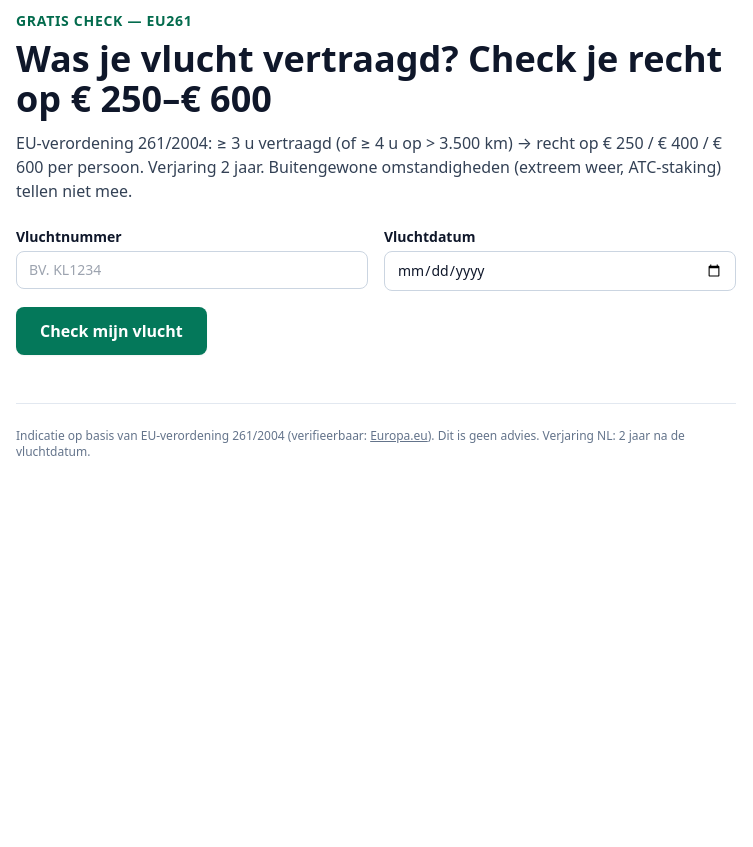
Test: VluchtclaimClient › toont 'binnenkort'-staat bij no-data van de server
In the field with test id "vluchtclaim-flightnumber": (192, 270) [16,251,368,289], type "KL1234"
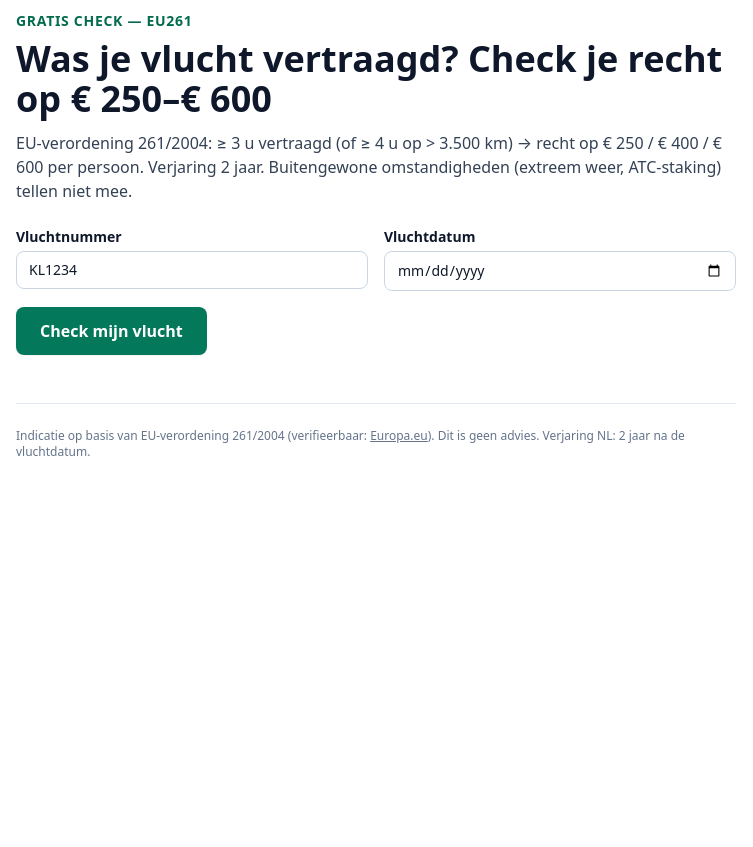
In the date field with test id "vluchtclaim-date": (560, 271) [384,251,736,291], type "2026-04-12"
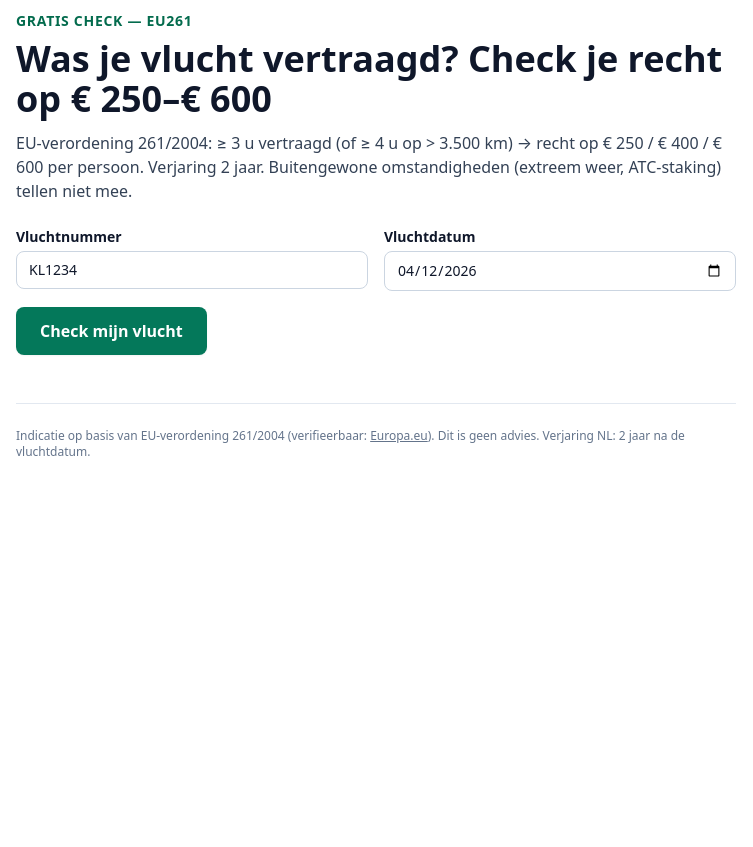
Click the button with test id "vluchtclaim-submit": click(111, 331) [16,307,207,355]
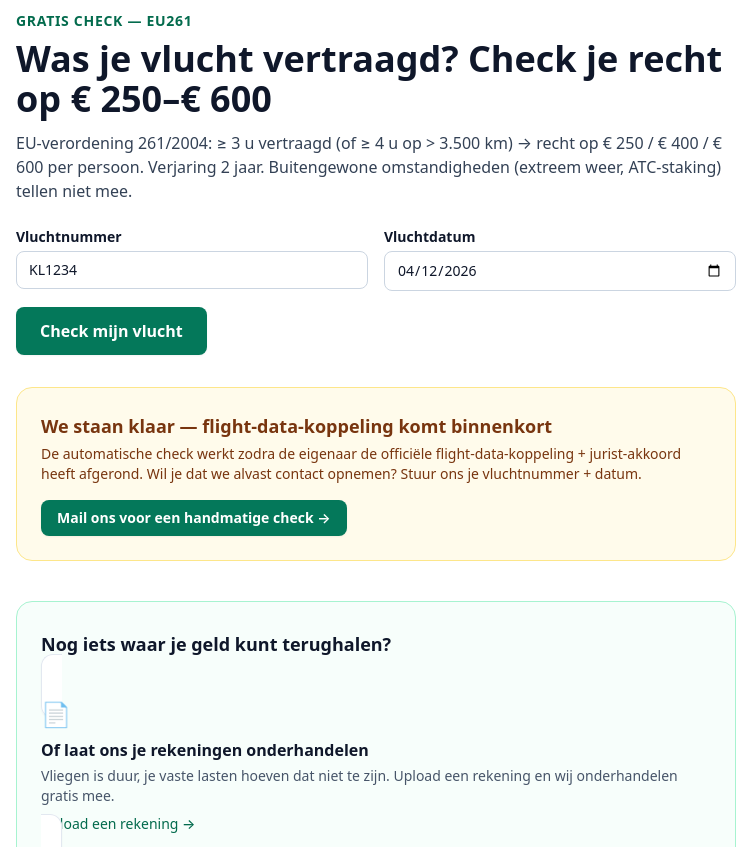
expect the element with test id "vluchtclaim-no-data" is shown: met, box [16,387,736,561]
